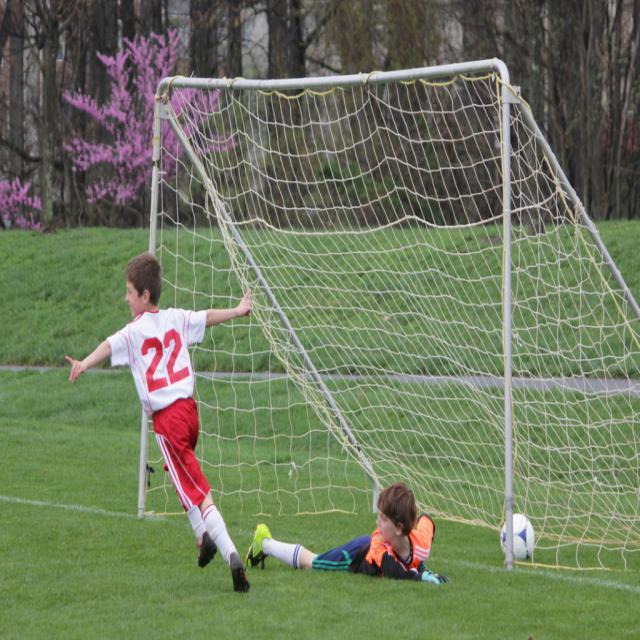football: (493, 509, 561, 576)
